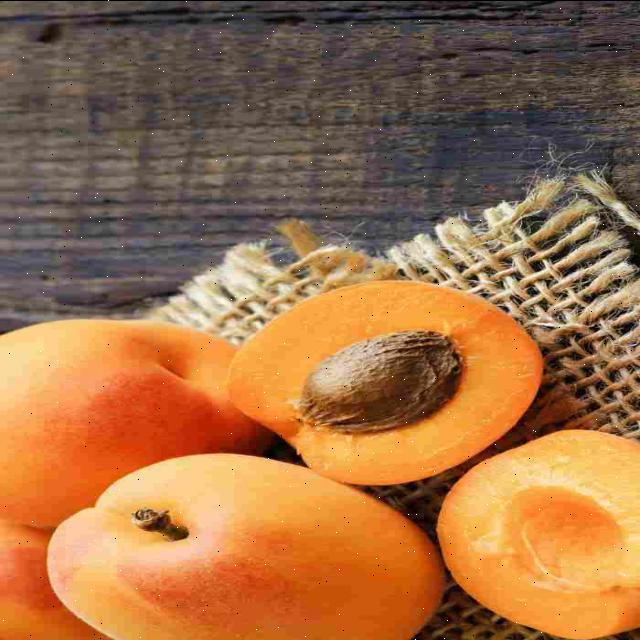Cekirdek: (293, 330, 462, 435)
Kayisi: (0, 318, 271, 639), (48, 453, 442, 639), (229, 280, 543, 484), (438, 429, 639, 638)
